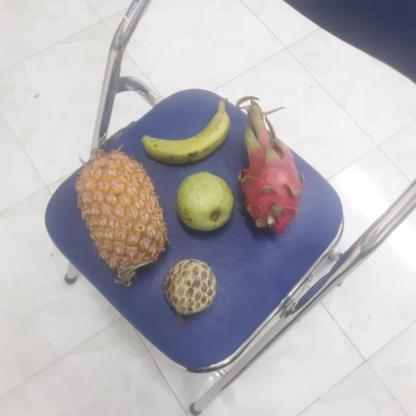annona: (162, 259, 219, 315)
banana: (139, 98, 227, 166)
guava: (173, 172, 234, 235)
pineapple: (71, 155, 166, 280)
pitaya: (230, 125, 302, 229)
